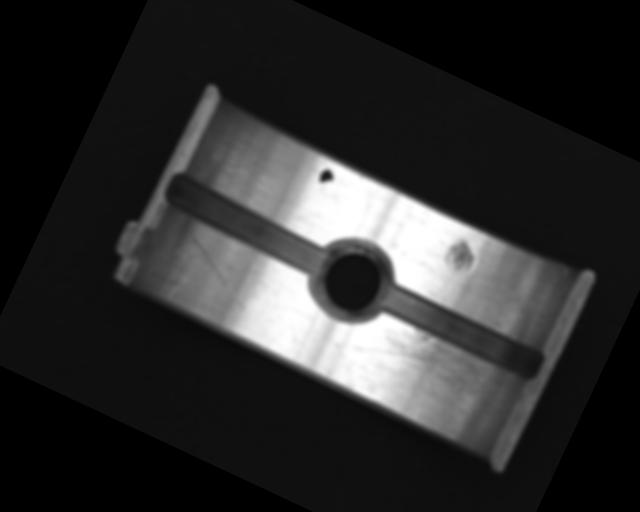blot: (314, 165, 337, 192)
bruise: (438, 235, 479, 276)
gap: (156, 167, 334, 279), (372, 277, 549, 386)
hole: (300, 225, 407, 335)
nick: (169, 232, 265, 312)
scratch: (341, 306, 521, 438)
